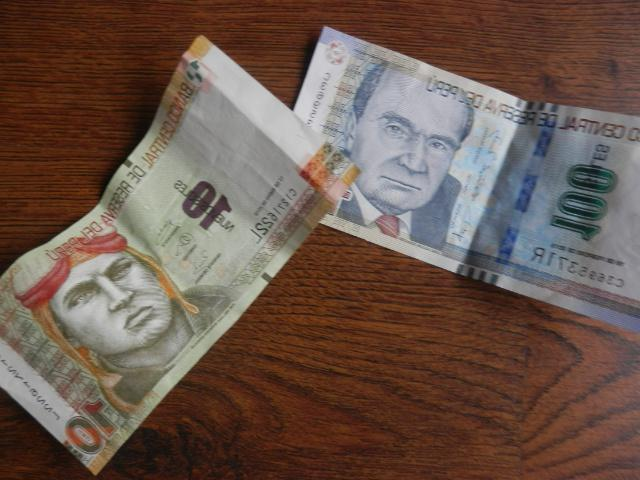B10: (2, 36, 348, 474)
B100: (299, 26, 640, 329)
